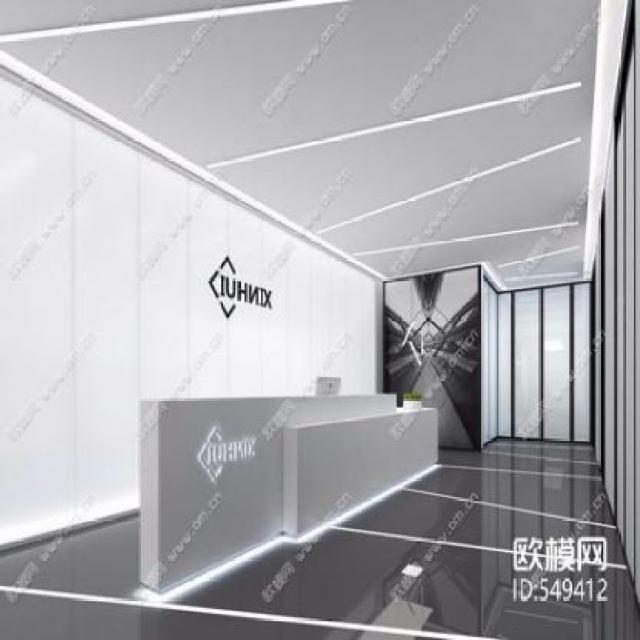frontdesk: (124, 378, 446, 602)
